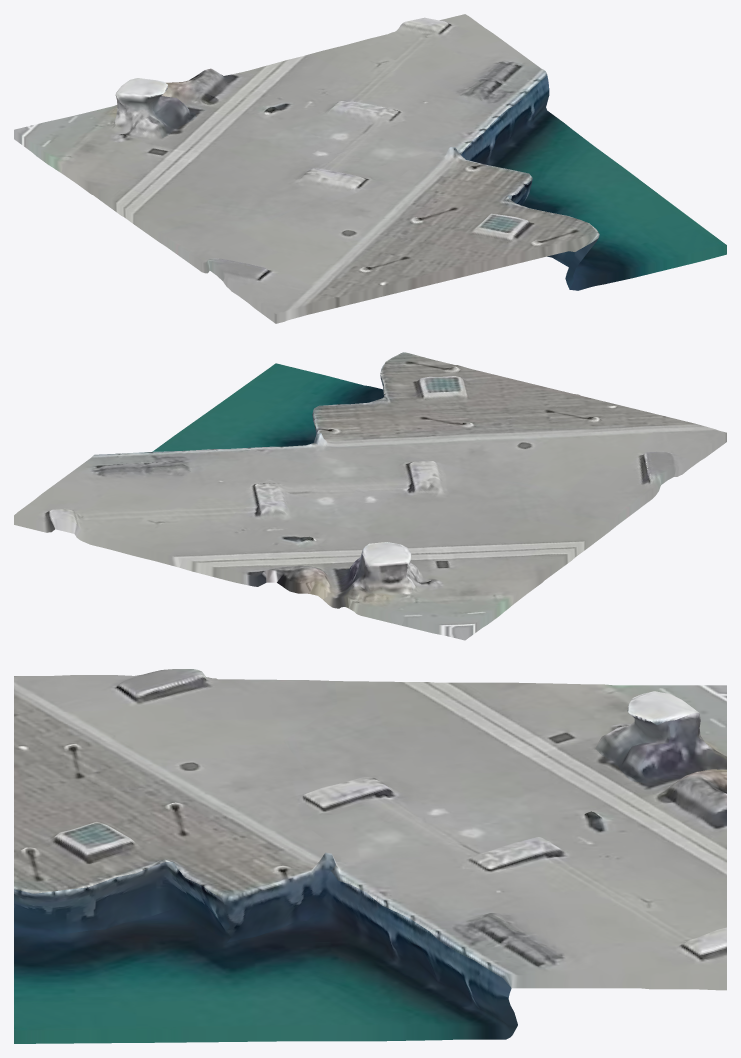
The model's file is z20-167781-405208-h0-yup-uvflip-v3-world.glb.
3 renders of one model, top to bottom at view 1: azimuth 30°, elevation 25°; view 2: azimuth 150°, elevation 25°; view 3: azimuth 270°, elevation 25°, orthographic. The views are drawn at different scales.
Bounding box in the file's own units: 30.16 × 5.24 × 30.32.
1 material, 1 textured.
